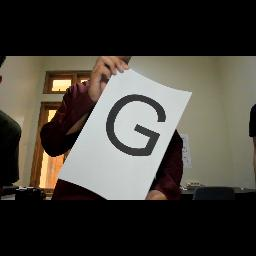g: (104, 88, 170, 164)
